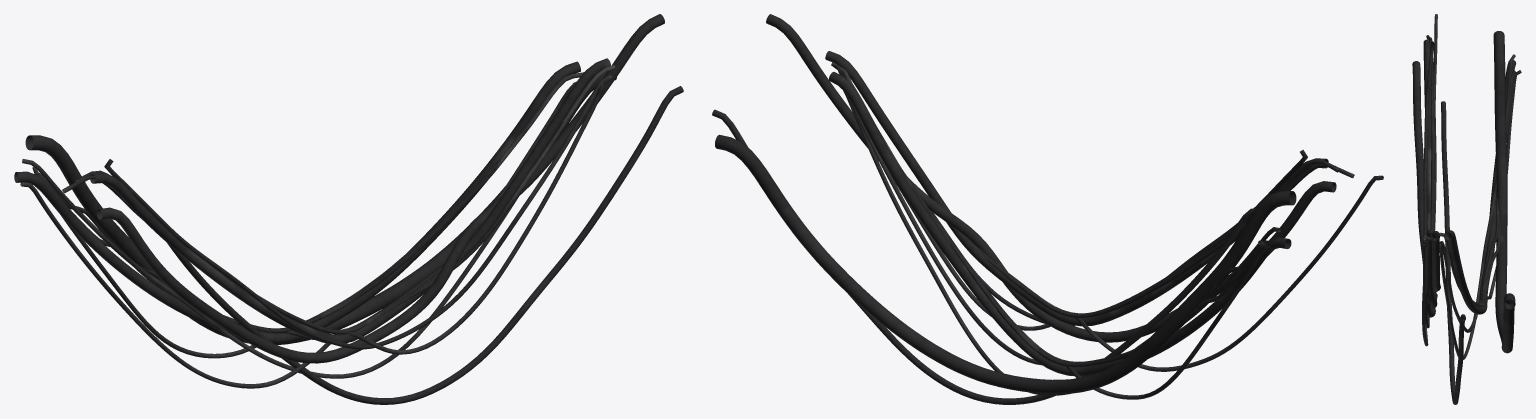
Rendered from cables.glb.
3 renders of one model, left to right at view 1: azimuth 30°, elevation 25°; view 2: azimuth 150°, elevation 25°; view 3: azimuth 270°, elevation 25°, orthographic. The views are drawn at different scales.
Visible parts, largest first — view 1: Object_2, Object_3; view 2: Object_2, Object_3; view 3: Object_2, Object_3.
Part boxes in pixels (x1=…): Object_2: x1=14, y1=14, x2=683, y2=404; Object_3: x1=20, y1=65, x2=615, y2=388; Object_2: x1=712, y1=14, x2=1336, y2=404; Object_3: x1=831, y1=62, x2=1383, y2=399; Object_2: x1=1412, y1=31, x2=1516, y2=404; Object_3: x1=1422, y1=14, x2=1521, y2=359.
Bounding box in the file's own units: 17.02 × 8.08 × 3.24.
Materials: 1 (1 with a texture image).
